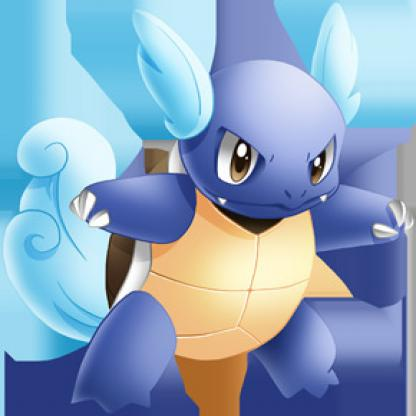Wartortle: (37, 15, 414, 415)
